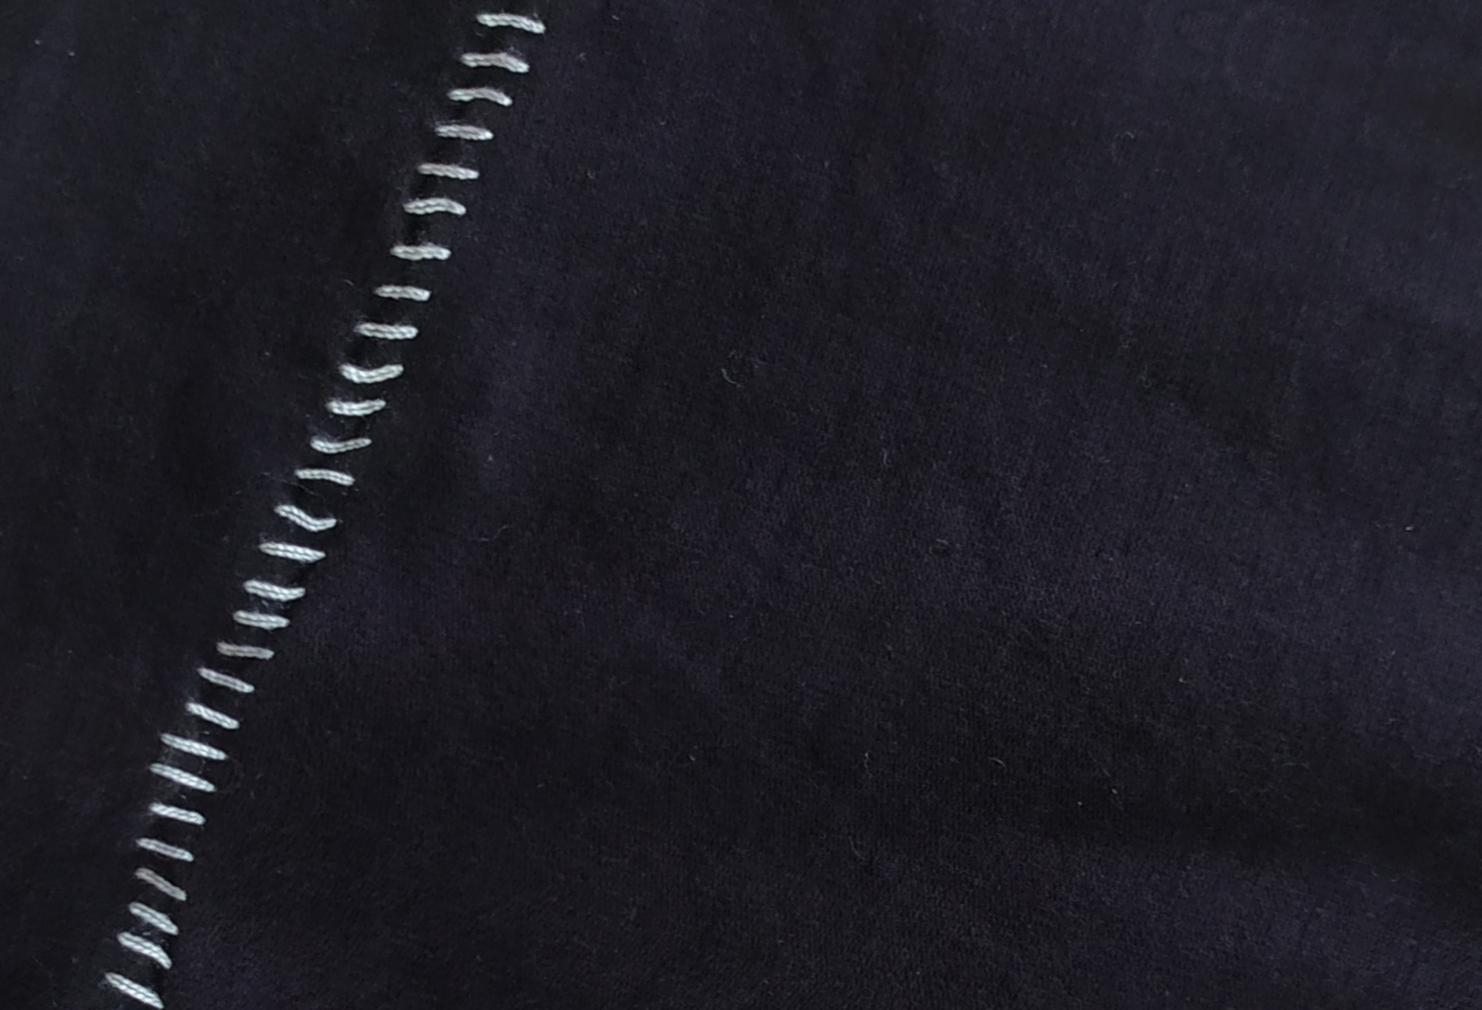slub: (97, 1, 564, 1009)
